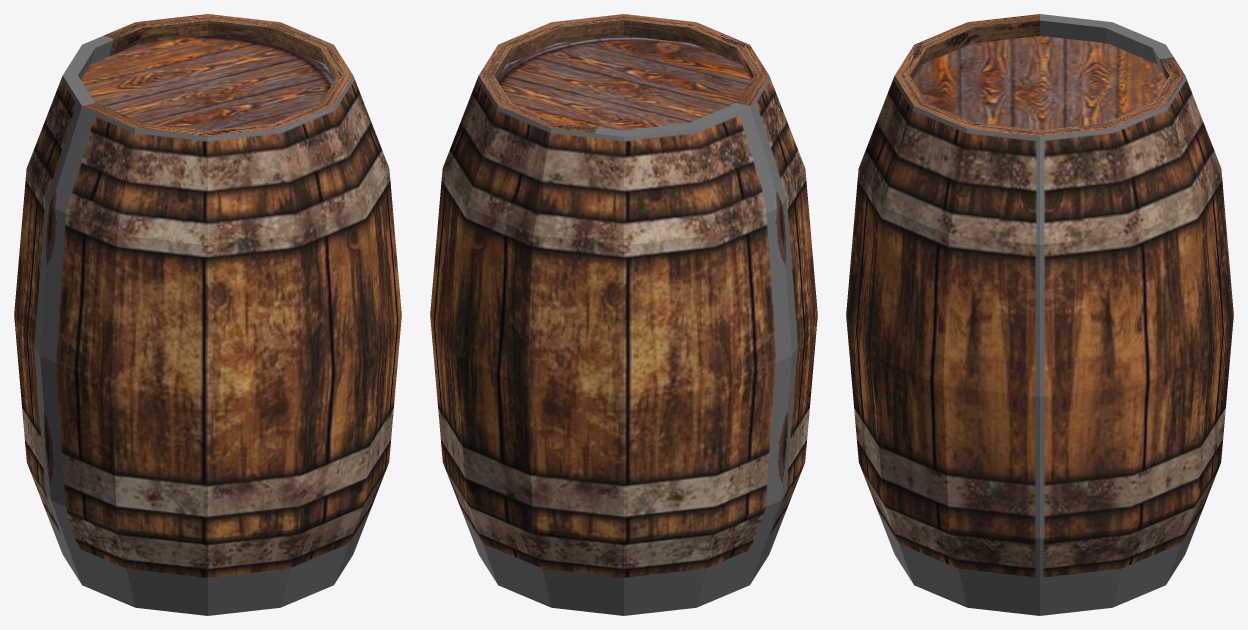
The model's file is Barrel1 1.fbx.
The picture shows the model from 3 angles, left to right: view 1: azimuth 30°, elevation 25°; view 2: azimuth 150°, elevation 25°; view 3: azimuth 270°, elevation 25°; orthographic projection.
Visible parts, largest first — view 1: Barrel; view 2: Barrel; view 3: Barrel.
Part boxes in pixels (box(x1,y1,x2,y2)): Barrel: box(14, 14, 401, 615); Barrel: box(430, 14, 817, 615); Barrel: box(846, 14, 1233, 615).
Size of the model in its own units: 33.37 by 45.5 by 33.37.
Materials: 1 (1 with a texture image).
